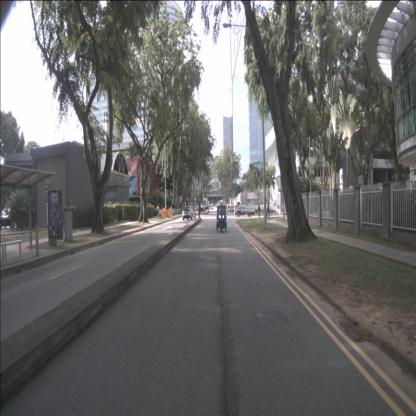human-pedestrian-adult: (265, 201, 270, 218), (198, 199, 201, 218), (258, 203, 260, 219), (157, 204, 159, 218)
vehicle-car: (0, 208, 16, 228), (182, 206, 196, 220), (200, 205, 204, 212)
vehicle-motorcycle: (216, 202, 227, 232)
vehicle-truck: (234, 202, 255, 217), (203, 198, 209, 209), (202, 200, 206, 210)
